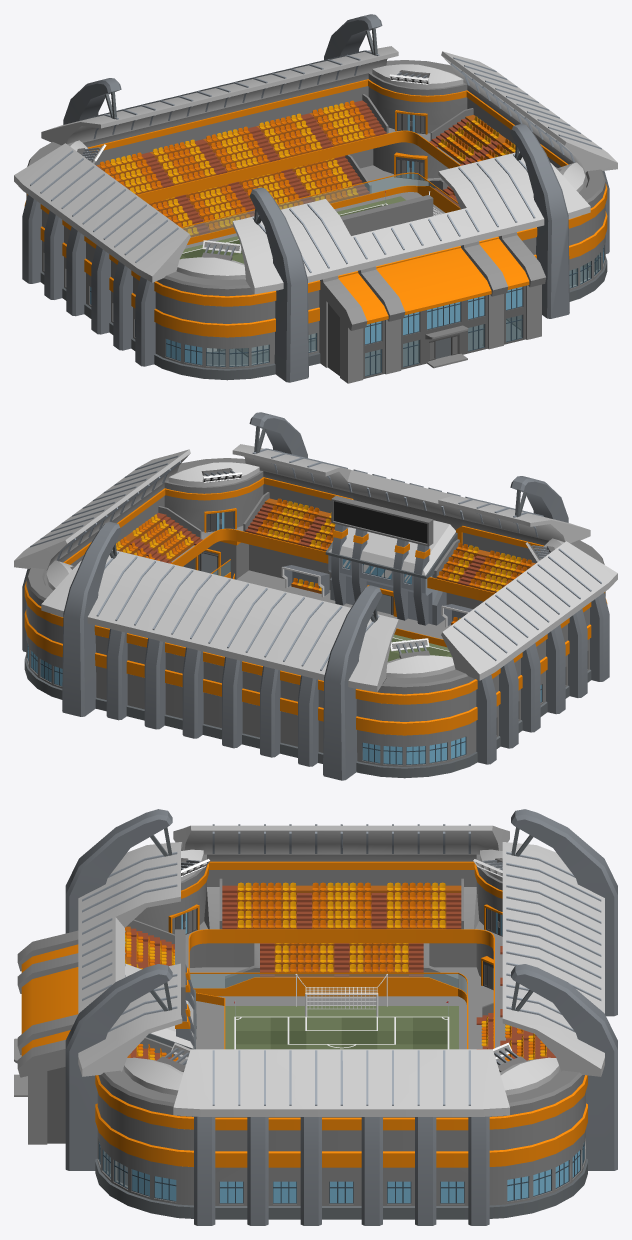
The model's file is SM_Buildings_Football_01.fbx.
3 views of the same model, one above another, from view 1: azimuth 30°, elevation 25°; view 2: azimuth 150°, elevation 25°; view 3: azimuth 270°, elevation 25° (orthographic). The views are drawn at different scales.
Visible parts, largest first — view 1: SM_Buildings_Football_01_LOD0; view 2: SM_Buildings_Football_01_LOD0; view 3: SM_Buildings_Football_01_LOD0.
Boxes of the visible parts, <box> form: SM_Buildings_Football_01_LOD0: <box>14,14,617,383</box>; SM_Buildings_Football_01_LOD0: <box>14,412,617,780</box>; SM_Buildings_Football_01_LOD0: <box>14,809,617,1225</box>.
Size of what is drawn, in the model's own units: 6203 by 2046 by 5662.
